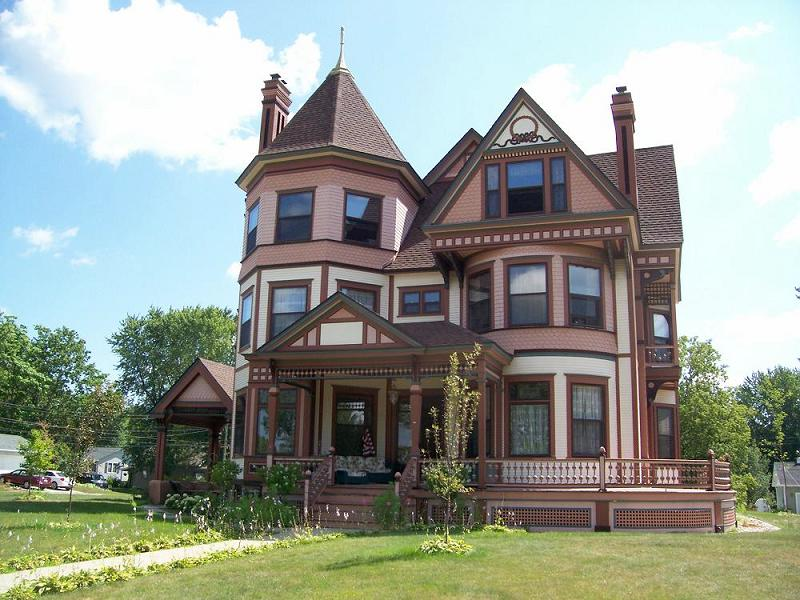Building House: (158, 68, 715, 514)
